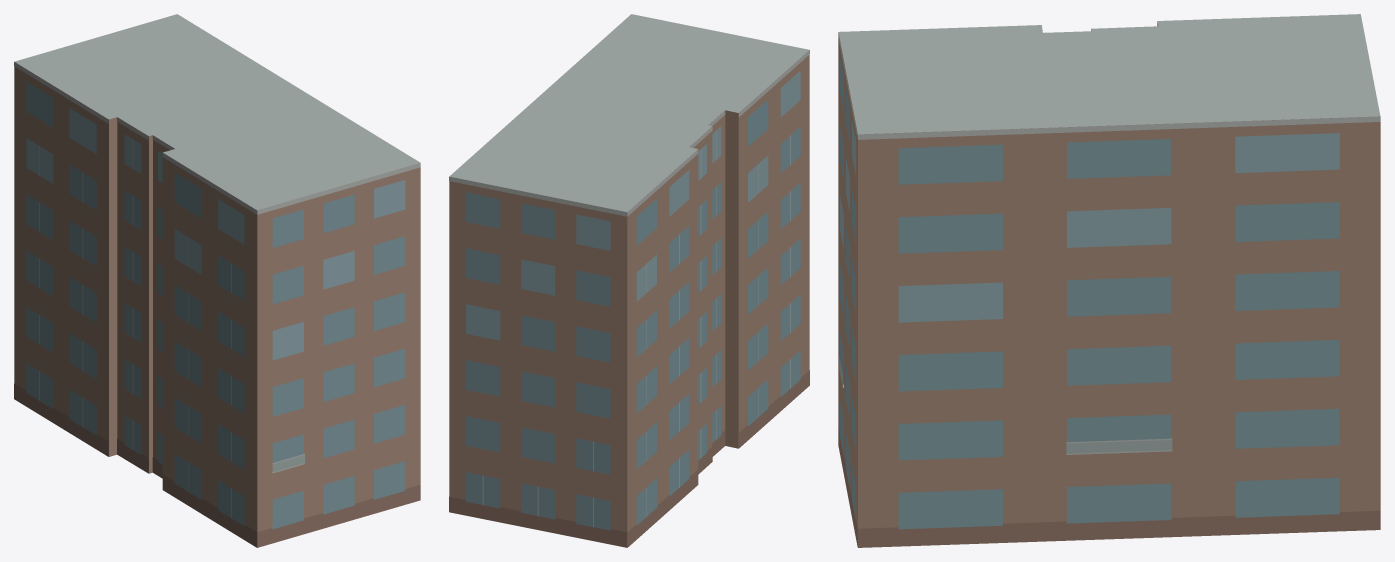
File: survey-upis-32528608.glb
3 views of the same model, side by side, from view 1: azimuth 30°, elevation 25°; view 2: azimuth 150°, elevation 25°; view 3: azimuth 270°, elevation 25° (orthographic). The views are drawn at different scales.
Parts seen in each view (by area): view 1: survey-upis-32528608.tmp; view 2: survey-upis-32528608.tmp; view 3: survey-upis-32528608.tmp.
Boxes of the visible parts, x1,y1,x2,y2 form: survey-upis-32528608.tmp: (14,14,420,547); survey-upis-32528608.tmp: (449,14,809,547); survey-upis-32528608.tmp: (838,14,1380,547).
Bounding box in the file's own units: 11.43 × 18.3 × 21.75.
